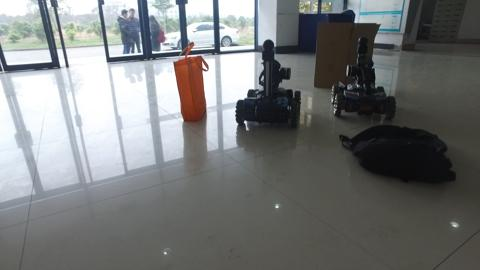bag: (352, 127, 458, 179), (168, 44, 211, 124)
chariot: (236, 40, 302, 129), (332, 39, 398, 119)
